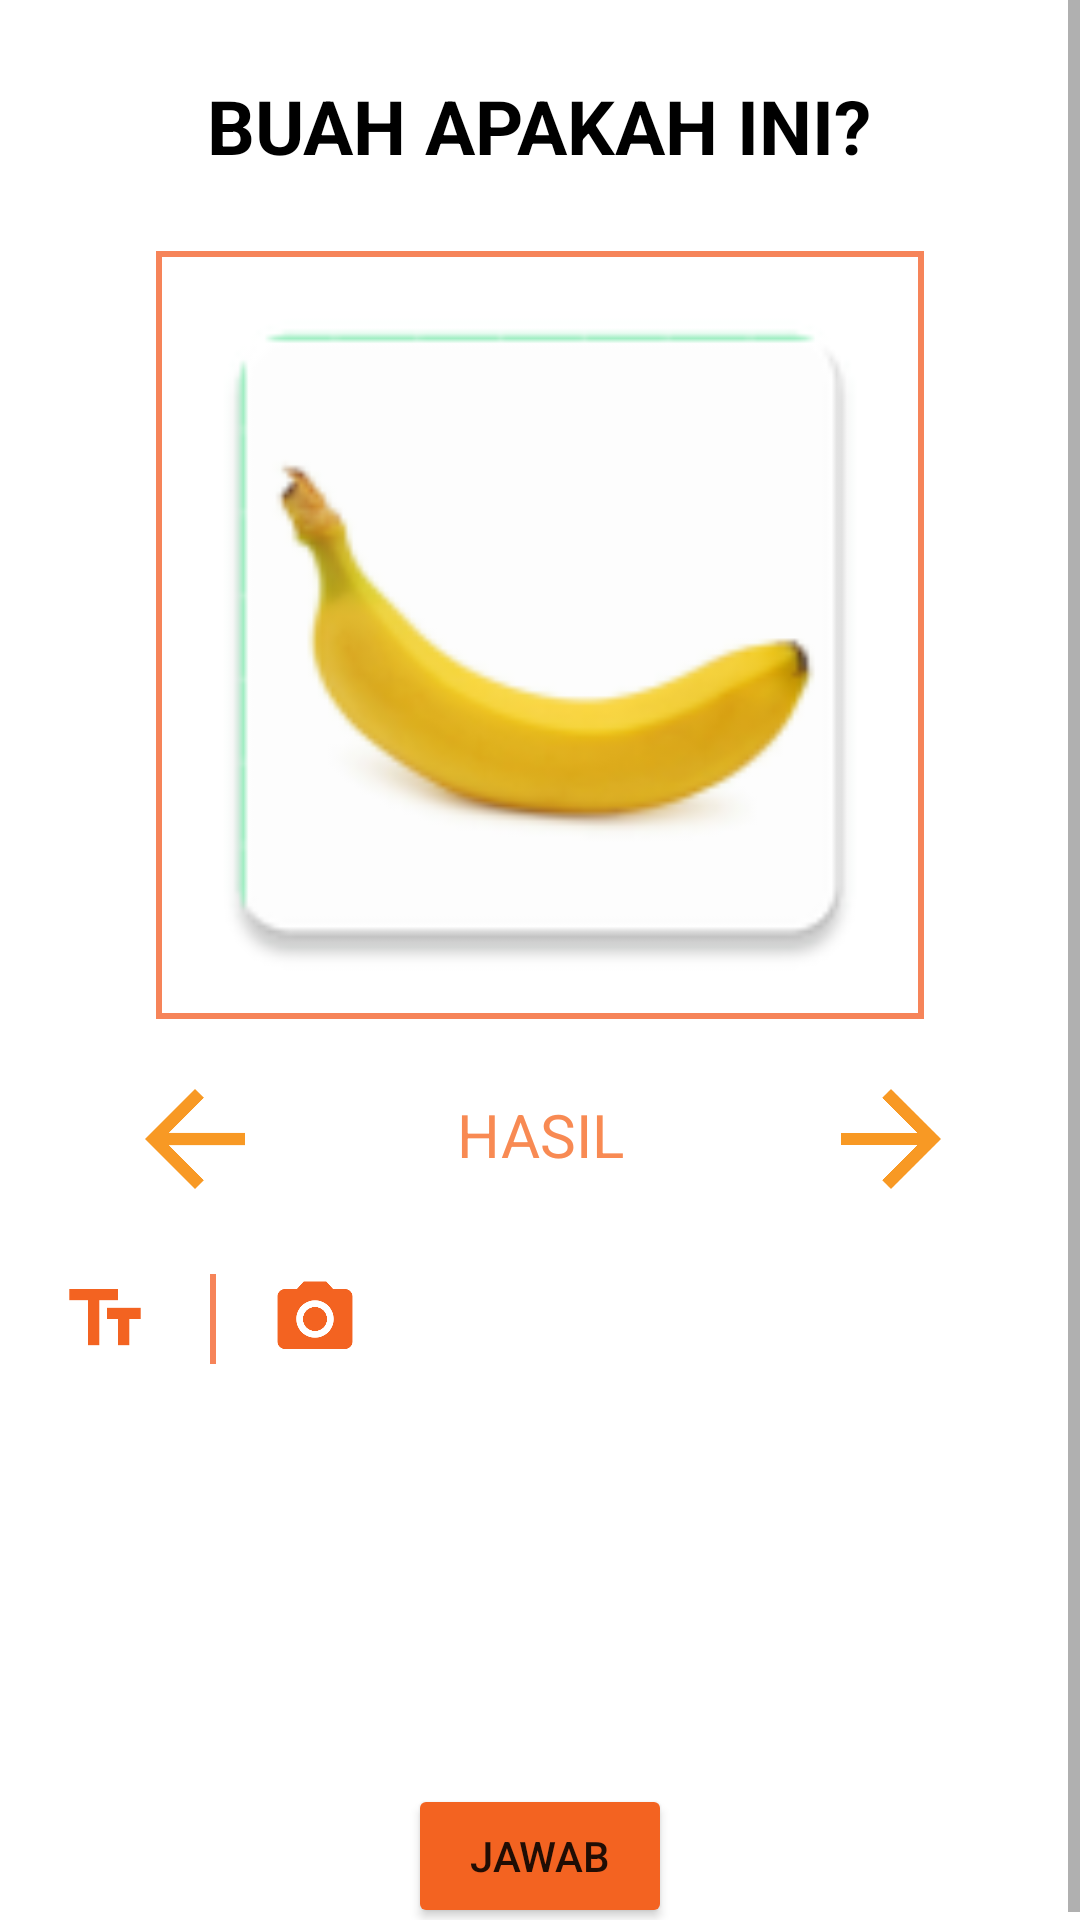

Screen size 1080px x 1920px. Icon name, then its box in pixels as (x1, y1, x2, y2):
arrow back: (145, 1089, 245, 1189)
arrow forward: (841, 1089, 941, 1189)
camera: (277, 1281, 353, 1349)
text fields: (69, 1289, 141, 1346)
